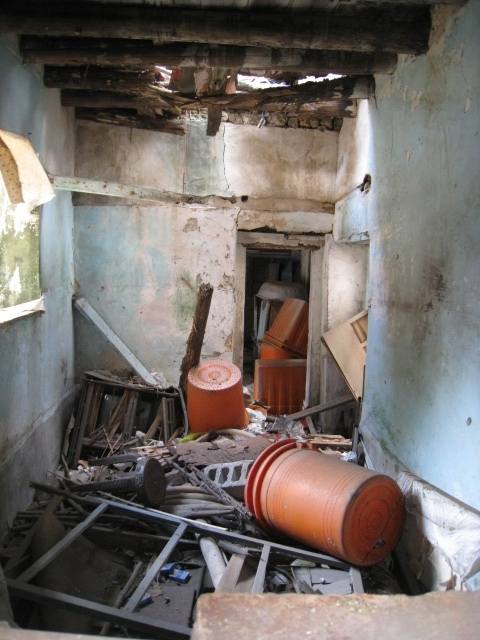bowl: (258, 280, 307, 302)
box: (252, 350, 310, 417), (259, 294, 311, 358)
bucket: (244, 436, 407, 568), (182, 357, 254, 437)
